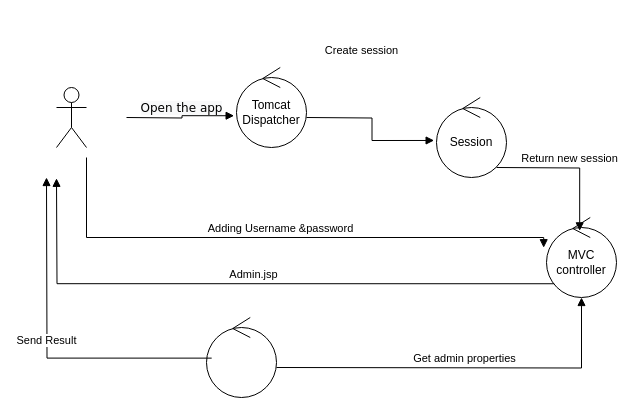
The diagram is 636 pixels wide and 416 high, and some of its shapes have lost their labels. The centre of each missing label's shape, as x and y in pixels:
"Admin" belongs at pixel 71 117.
"PropertiesDAO" belongs at pixel 241 357.
